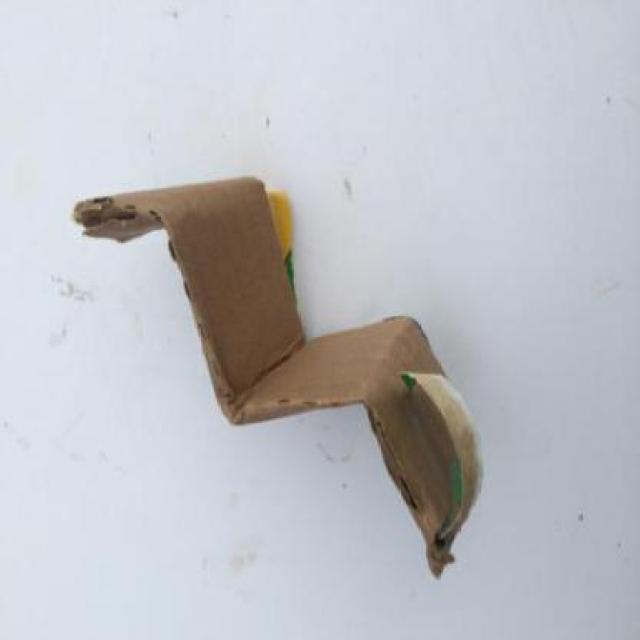box: (59, 82, 564, 620)
